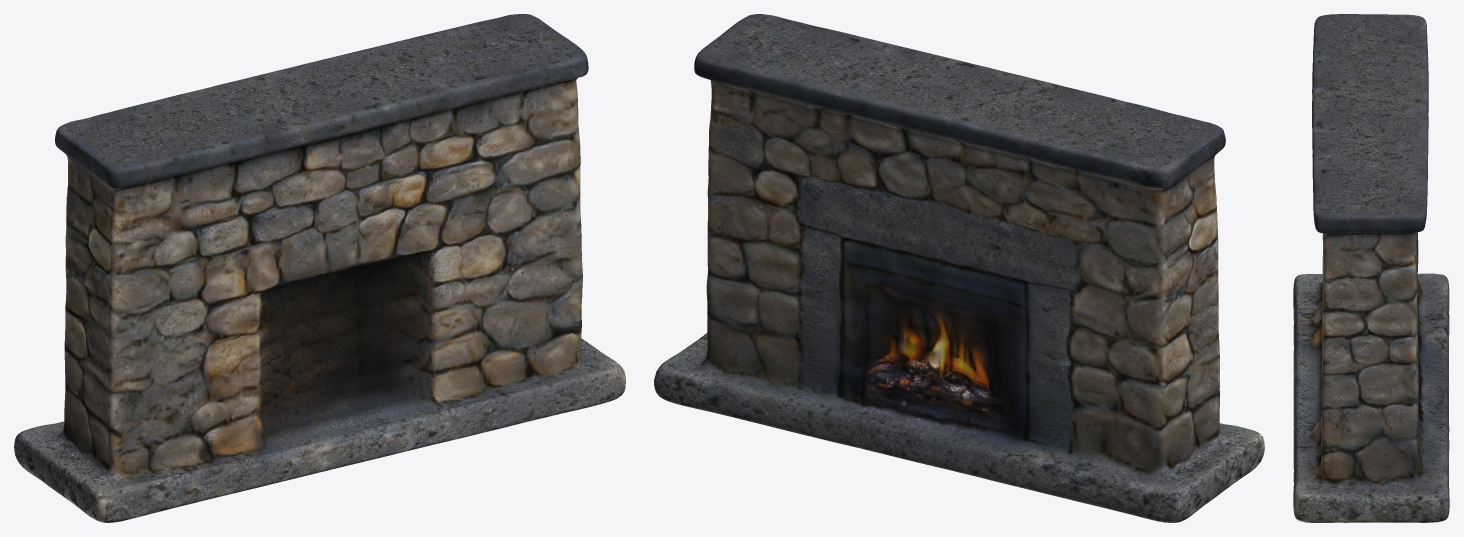
Rendered from Fireplace.glb.
The picture shows the model from 3 angles, left to right: view 1: azimuth 30°, elevation 25°; view 2: azimuth 150°, elevation 25°; view 3: azimuth 270°, elevation 25°; orthographic projection. The views are drawn at different scales.
Parts seen in each view (by area): view 1: model_0; view 2: model_0; view 3: model_0.
Boxes of the visible parts, <box> form: model_0: <box>14,14,625,522</box>; model_0: <box>654,14,1264,522</box>; model_0: <box>1293,14,1449,522</box>.
Bounding box in the file's own units: 1.59 × 0.9848 × 0.467.
1 material, 1 textured.
